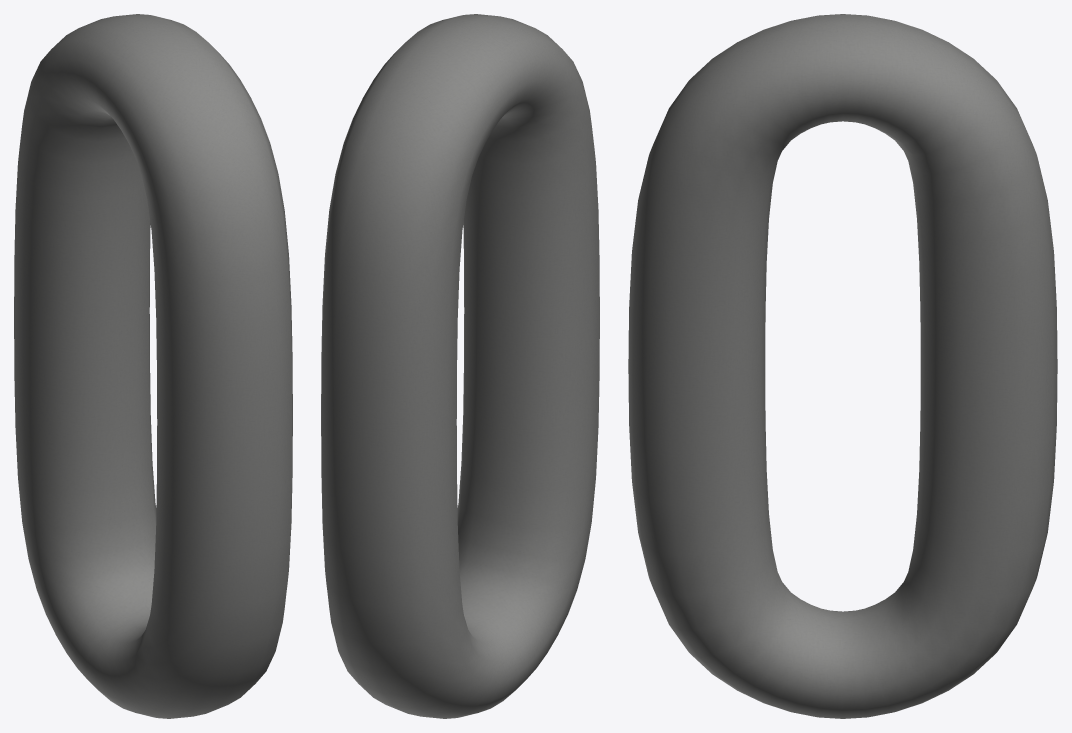
File: FD-001-SingleChain.fbx
The picture shows the model from 3 angles, left to right: view 1: azimuth 30°, elevation 25°; view 2: azimuth 150°, elevation 25°; view 3: azimuth 270°, elevation 25°; orthographic projection. The views are drawn at different scales.
Parts seen in each view (by area): view 1: FD-001-SingleChain; view 2: FD-001-SingleChain; view 3: FD-001-SingleChain.
Boxes of the visible parts, x1,y1,x2,y2 form: FD-001-SingleChain: (14,14,292,718); FD-001-SingleChain: (321,14,599,718); FD-001-SingleChain: (628,14,1057,718).
Bounding box in the file's own units: 14.41 × 25.44 × 4.64.
